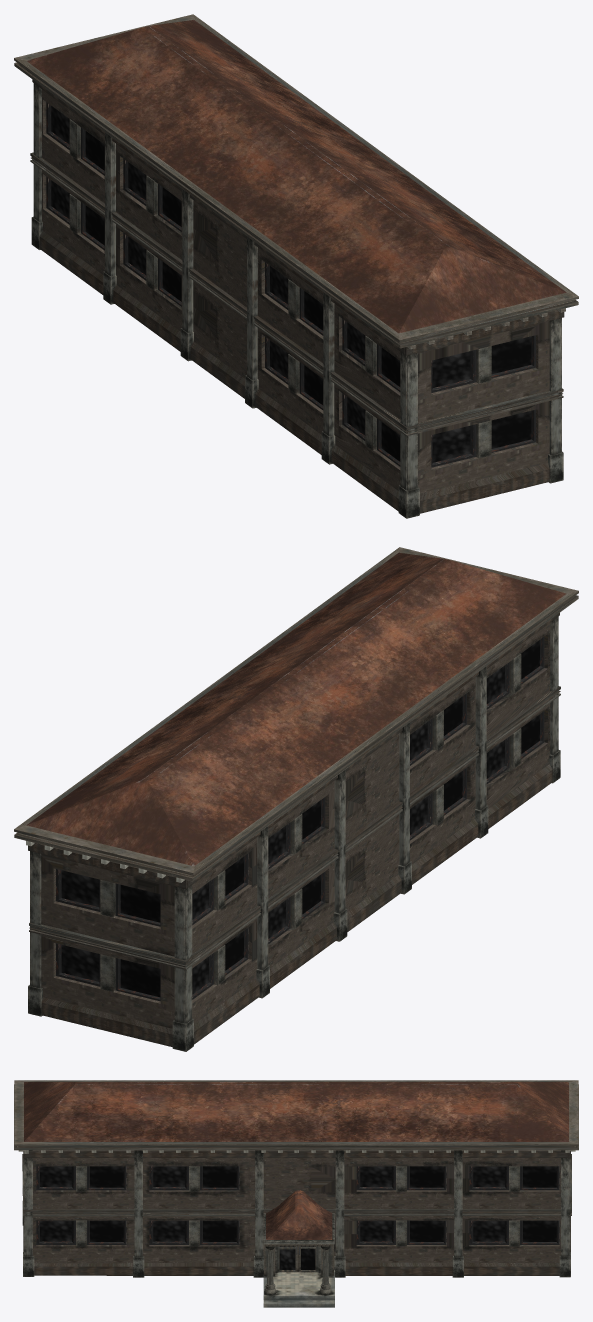
File: old_aberdonned_house.obj
3 views of the same model, one above another, from view 1: azimuth 30°, elevation 25°; view 2: azimuth 150°, elevation 25°; view 3: azimuth 270°, elevation 25° (orthographic). The views are drawn at different scales.
Visible parts, largest first — view 1: obj8, obj25, obj24, obj20, obj22, obj7, obj3, obj23, obj4, obj21, obj2; view 2: obj8, obj25, obj24, obj20, obj22, obj7, obj3, obj4, obj23, obj21, obj2; view 3: obj8, obj25, obj24, obj22, obj20, obj7, obj3, obj23, obj2, obj4, obj13, obj21 (+7 smaller).
Part boxes in pixels (x1=…): obj8: x1=26, y1=20, x2=566, y2=333; obj25: x1=42, y1=89, x2=549, y2=422; obj24: x1=42, y1=170, x2=549, y2=493; obj20: x1=31, y1=83, x2=563, y2=518; obj22: x1=51, y1=106, x2=531, y2=462; obj7: x1=14, y1=14, x2=578, y2=348; obj3: x1=39, y1=231, x2=549, y2=513; obj23: x1=46, y1=102, x2=535, y2=467; obj4: x1=30, y1=152, x2=563, y2=436; obj21: x1=69, y1=119, x2=491, y2=458; obj2: x1=32, y1=79, x2=564, y2=355; obj8: x1=26, y1=552, x2=566, y2=866; obj25: x1=41, y1=623, x2=550, y2=956; obj24: x1=41, y1=703, x2=550, y2=1028; obj20: x1=28, y1=616, x2=560, y2=1051; obj22: x1=61, y1=640, x2=539, y2=997; obj7: x1=14, y1=547, x2=578, y2=881; obj3: x1=41, y1=764, x2=552, y2=1046; obj4: x1=29, y1=686, x2=560, y2=969; obj23: x1=56, y1=637, x2=544, y2=1001; obj21: x1=100, y1=654, x2=521, y2=991; obj2: x1=28, y1=613, x2=559, y2=888; obj8: x1=24, y1=1082, x2=568, y2=1141; obj25: x1=33, y1=1158, x2=560, y2=1209; obj24: x1=33, y1=1216, x2=560, y2=1263; obj22: x1=40, y1=1166, x2=556, y2=1241; obj20: x1=22, y1=1150, x2=570, y2=1277; obj7: x1=14, y1=1080, x2=578, y2=1150; obj3: x1=23, y1=1216, x2=570, y2=1275; obj23: x1=36, y1=1166, x2=559, y2=1244; obj2: x1=23, y1=1150, x2=570, y2=1158; obj4: x1=22, y1=1154, x2=571, y2=1216; obj13: x1=266, y1=1190, x2=332, y2=1239; obj21: x1=76, y1=1166, x2=519, y2=1246.
Bounding box in the file's own units: 0.758 × 0.6487 × 2.
Materials: 22 (22 with a texture image).
